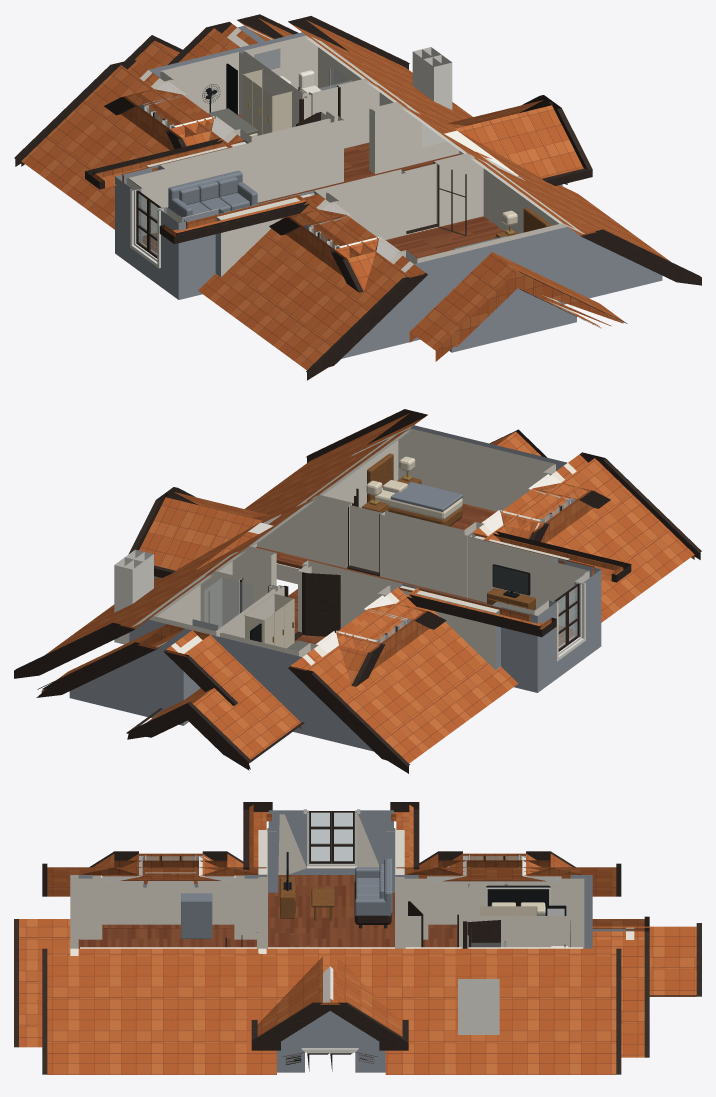
File: floor-3.glb
3 views of the same model, one above another, from view 1: azimuth 30°, elevation 25°; view 2: azimuth 150°, elevation 25°; view 3: azimuth 270°, elevation 25° (orthographic).
Parts seen in each view (by area): view 1: fixed | roof, fixed | interior, fixed | stucco, fixed | wood_dark, fixed | wood_floor, fixed | ceiling, fixed | white_trim, furniture | blue_fabric, furniture | linen, fixed | glass, furniture | black; view 2: fixed | roof, fixed | interior, fixed | wood_dark, fixed | stucco, furniture | linen, fixed | white_trim, fixed | glass, fixed | ceiling, furniture | wood_honey, fixed | wood_floor, furniture | blue_fabric, furniture | black (+1 smaller); view 3: fixed | roof, fixed | interior, fixed | wood_dark, fixed | wood_floor, fixed | stucco, furniture | blue_fabric, fixed | white_trim, fixed | glass, fixed | ceiling, furniture | black, furniture | wood_honey, furniture | linen (+1 smaller).
Boxes of the visible parts, <box> form: fixed | roof: <box>21,18,670,369</box>; fixed | interior: <box>126,26,584,314</box>; fixed | stucco: <box>115,25,662,358</box>; fixed | wood_dark: <box>14,14,701,380</box>; fixed | wood_floor: <box>142,114,504,258</box>; fixed | ceiling: <box>144,37,562,260</box>; fixed | white_trim: <box>130,47,452,268</box>; furniture | blue_fabric: <box>168,170,506,249</box>; furniture | linen: <box>242,69,517,225</box>; fixed | glass: <box>138,67,351,255</box>; furniture | black: <box>205,63,237,114</box>; fixed | roof: <box>41,413,694,763</box>; fixed | interior: <box>132,426,589,669</box>; fixed | wood_dark: <box>14,409,701,773</box>; fixed | stucco: <box>69,425,601,751</box>; furniture | linen: <box>244,456,462,648</box>; fixed | white_trim: <box>114,499,585,661</box>; fixed | glass: <box>204,501,577,648</box>; fixed | ceiling: <box>153,430,569,653</box>; furniture | wood_honey: <box>362,453,535,610</box>; fixed | wood_floor: <box>256,503,573,646</box>; furniture | blue_fabric: <box>390,482,463,511</box>; furniture | black: <box>250,564,530,642</box>; fixed | roof: <box>19,804,696,1074</box>; fixed | interior: <box>70,814,634,1002</box>; fixed | wood_dark: <box>14,802,701,1074</box>; fixed | wood_floor: <box>78,872,546,948</box>; fixed | stucco: <box>78,810,633,1072</box>; furniture | blue_fabric: <box>181,858,392,938</box>; fixed | white_trim: <box>145,809,520,1053</box>; fixed | glass: <box>146,812,518,946</box>; fixed | ceiling: <box>80,856,582,1002</box>; furniture | black: <box>283,852,566,915</box>; furniture | wood_honey: <box>280,877,334,920</box>; furniture | linen: <box>478,902,545,915</box>.
Size of the model in its own units: 11.56 by 2.2 by 16.46.
Materials: 19 (19 with a texture image).
